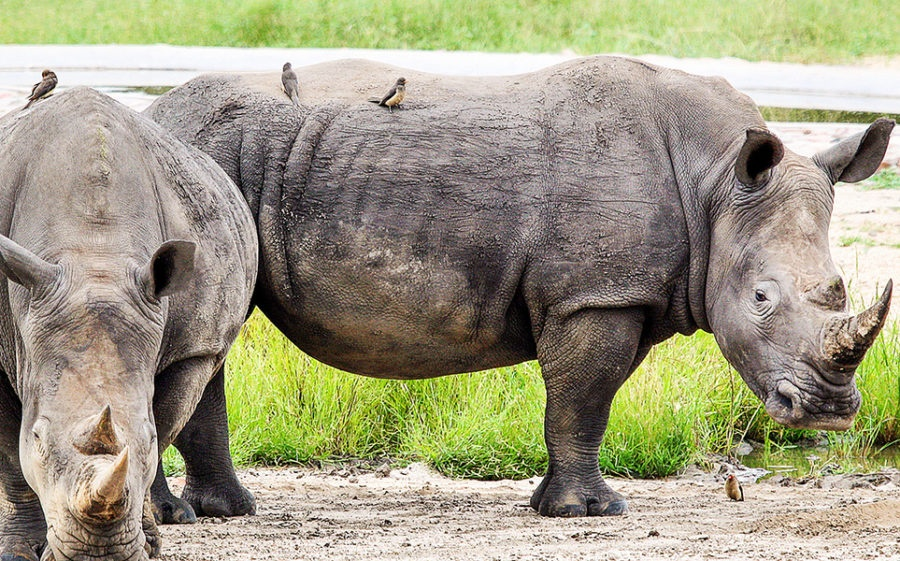rhino: (141, 55, 895, 516), (0, 79, 258, 561)
